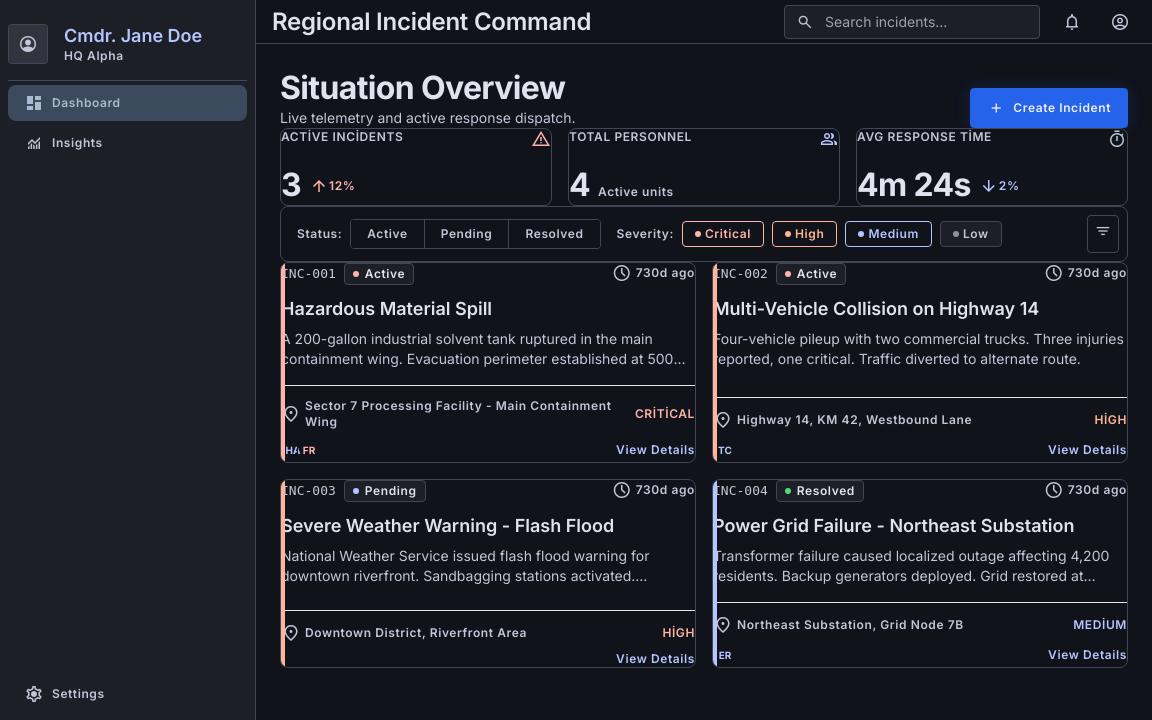
CommandDashboard › filters incidents by status
Check: the heading "Hazardous Material Spill" is shown, box [281, 298, 492, 319]
Click the button "Active": (388, 234) [351, 220, 425, 248]
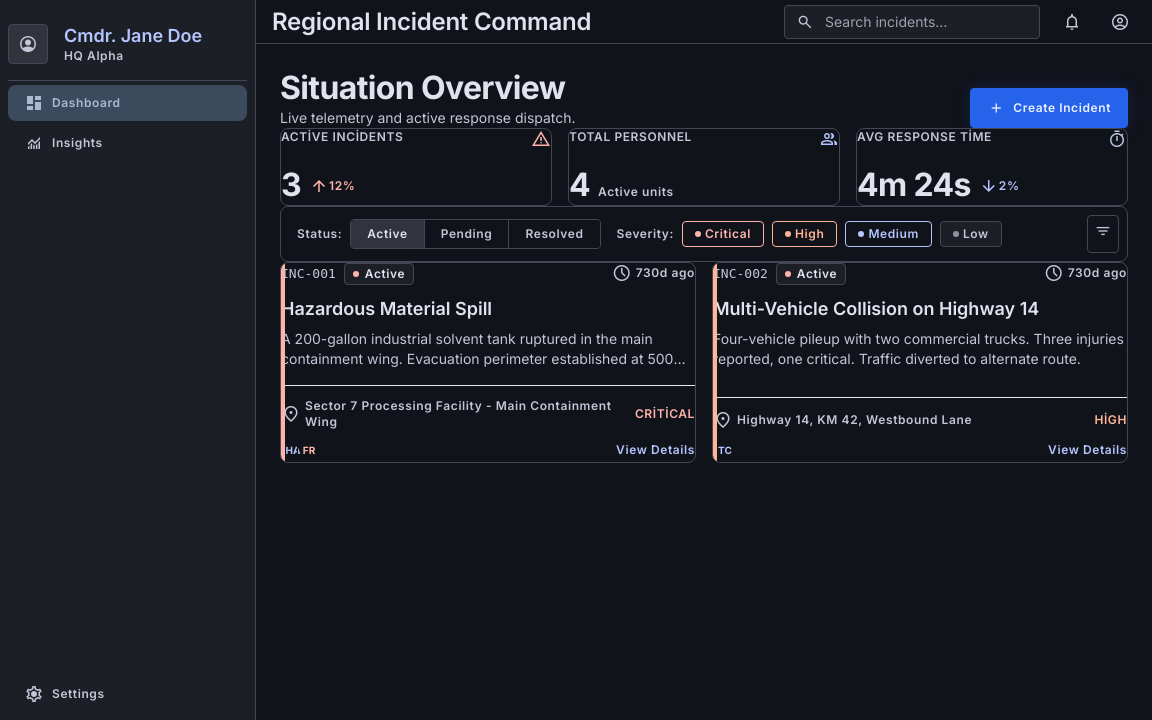
Check: the heading "Hazardous Material Spill" is shown, box [281, 298, 492, 319]
Check: the heading "Severe Weather Warning - Flash Flood" is gone
